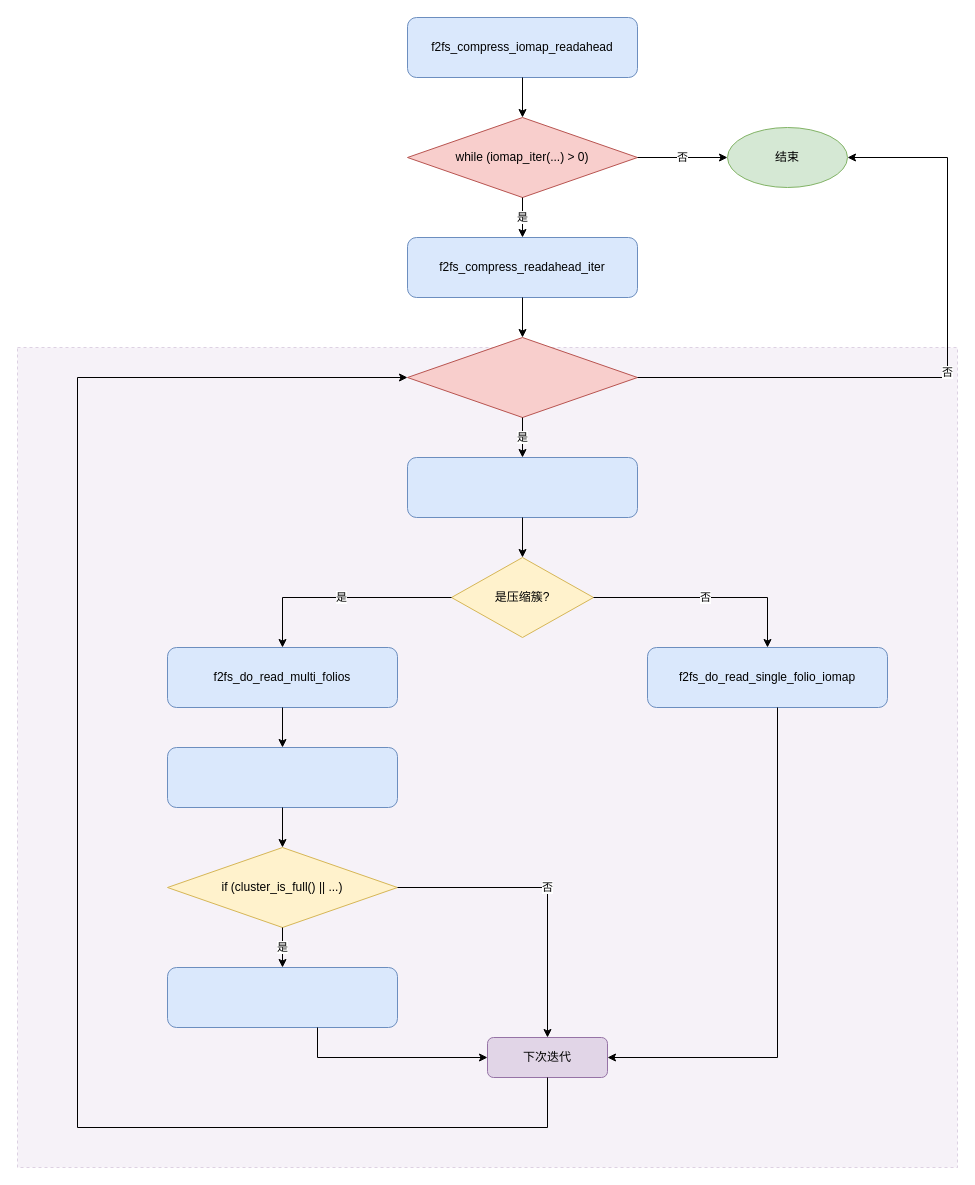
Image size: 975x1185. Some labels were removed from this diagram. Here are the shapes that lost their labels. From the top down, the centre of each, then its label:
At (522,377): "while (iomap_length(iter))".
At (522,487): "f2fs_compress_readpage_iter".
At (282,777): "do_read_multi_folios".
At (282,997): "f2fs_read_multi_folios".
